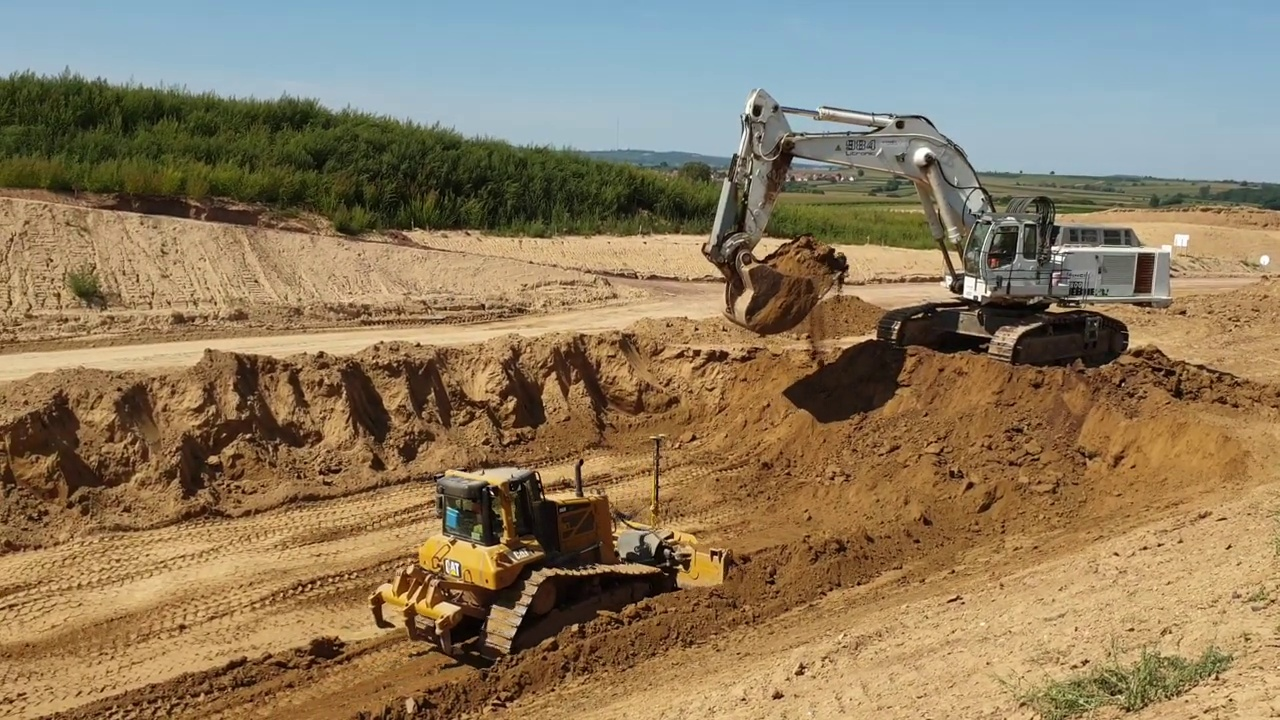bulldozer: (364, 428, 733, 668)
excavator: (695, 81, 1180, 375)
